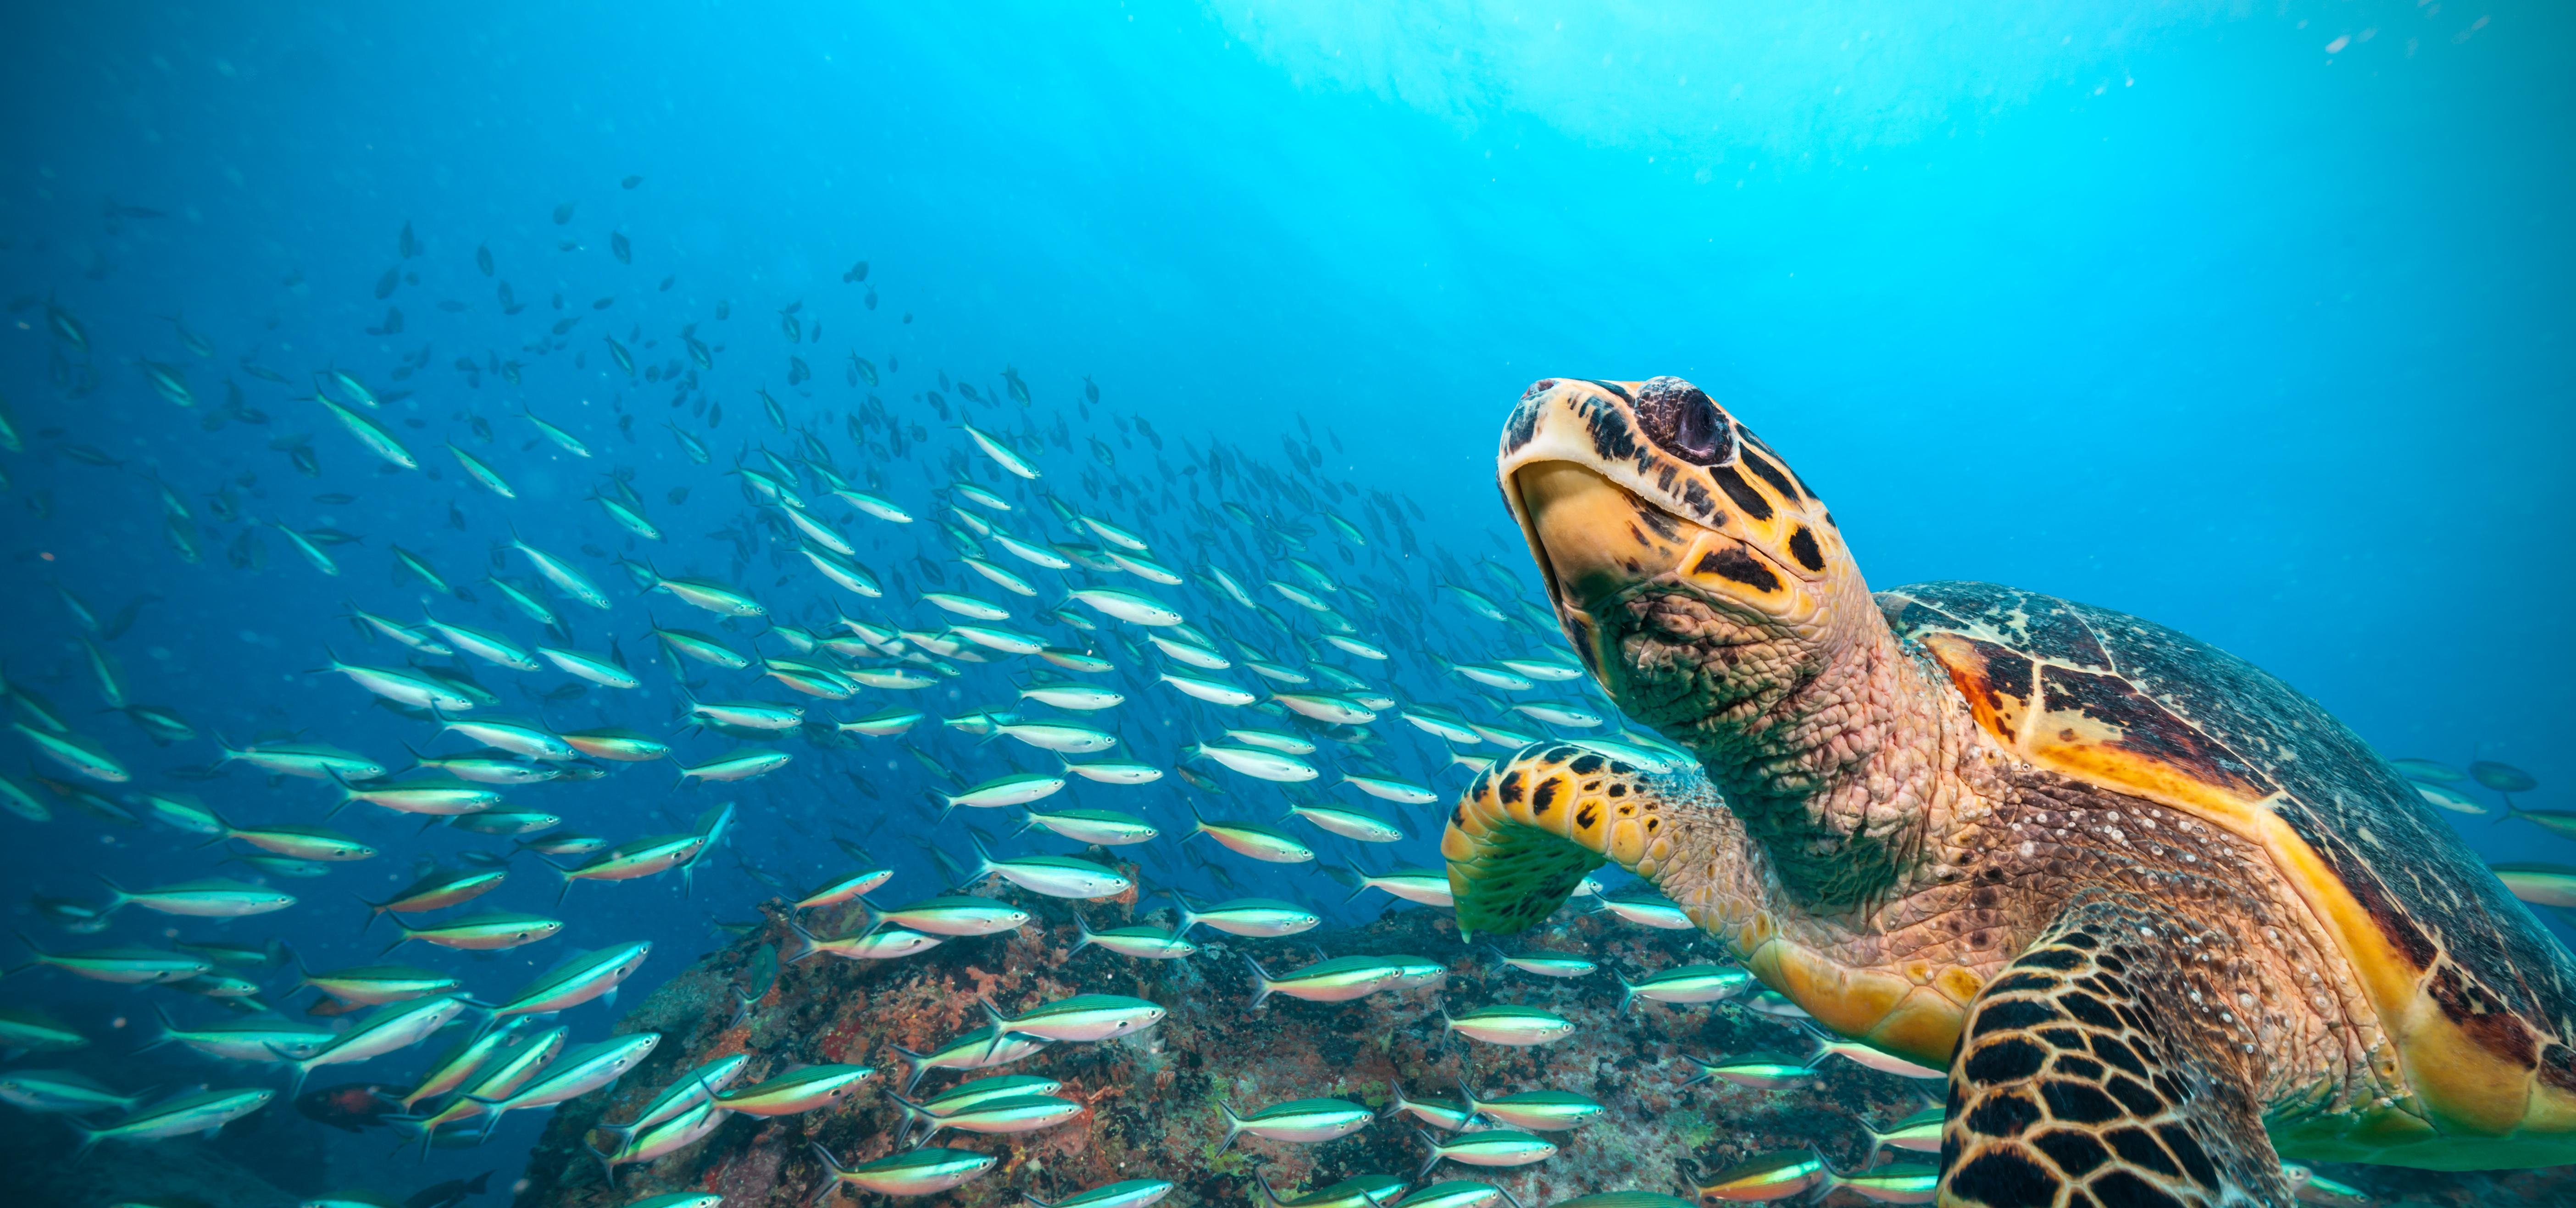turtle: (1482, 357, 1883, 745)
